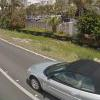Car: (22, 51, 100, 100)
